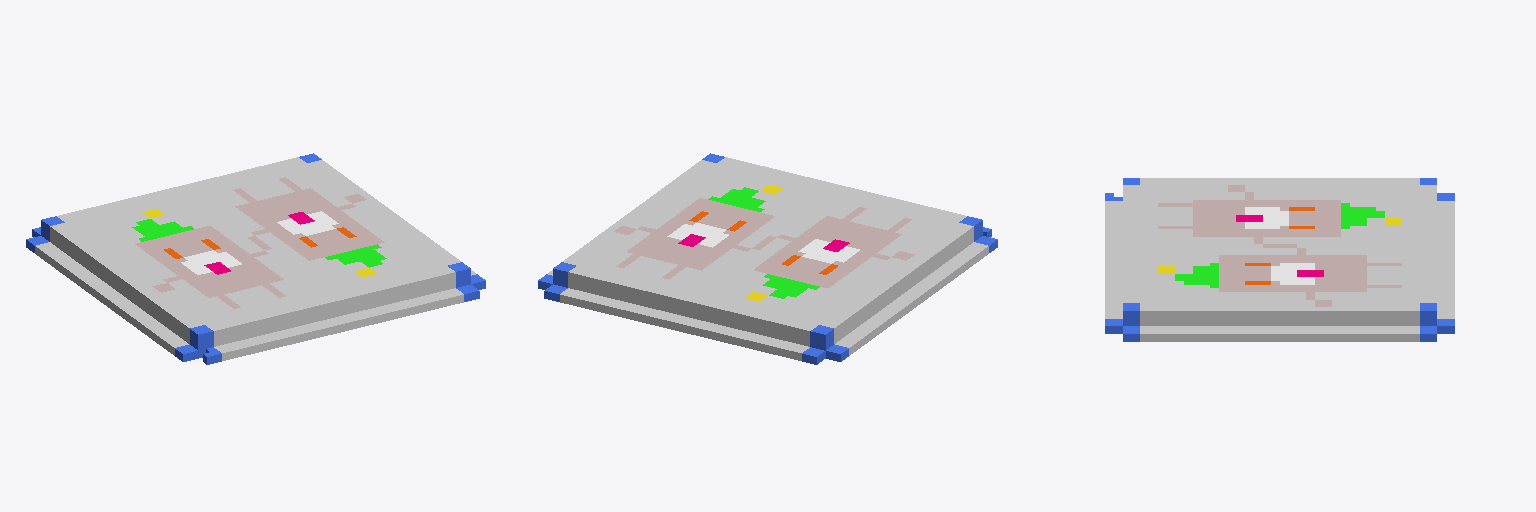
3 renders of one model, left to right at view 1: azimuth 30°, elevation 25°; view 2: azimuth 150°, elevation 25°; view 3: azimuth 270°, elevation 25°, orthographic.
Size of the model in its own units: 40 by 3 by 40.
Materials: 1 (1 with a texture image).